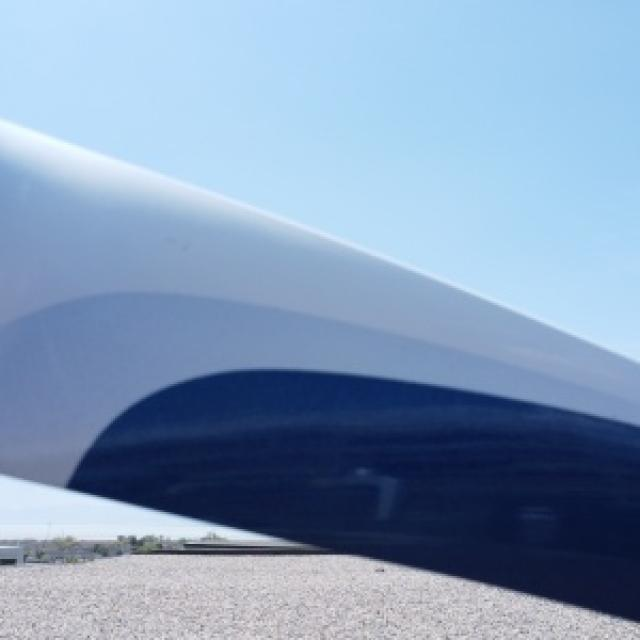healthy: (0, 119, 638, 619)
